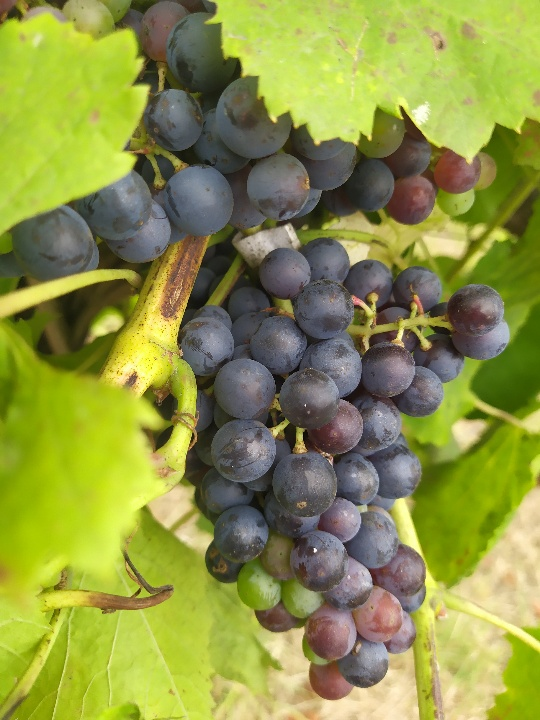grape: (161, 238, 512, 705)
